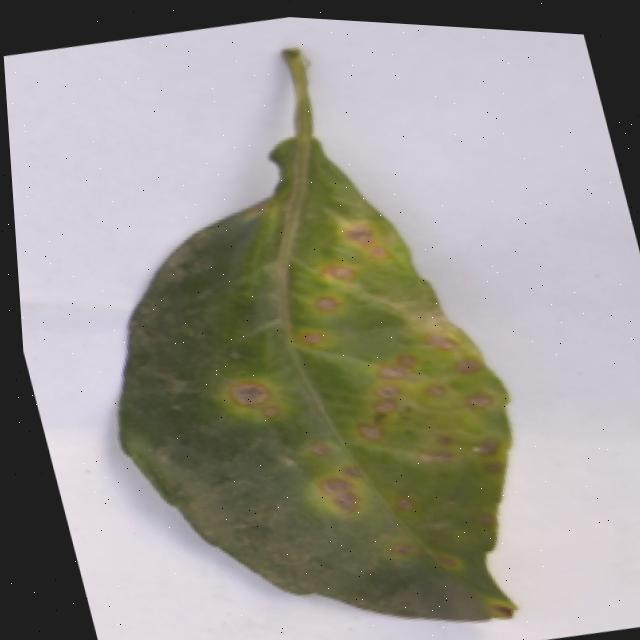canker: (125, 54, 516, 622), (239, 150, 539, 521), (194, 355, 303, 442), (297, 445, 390, 532), (370, 515, 469, 594)
